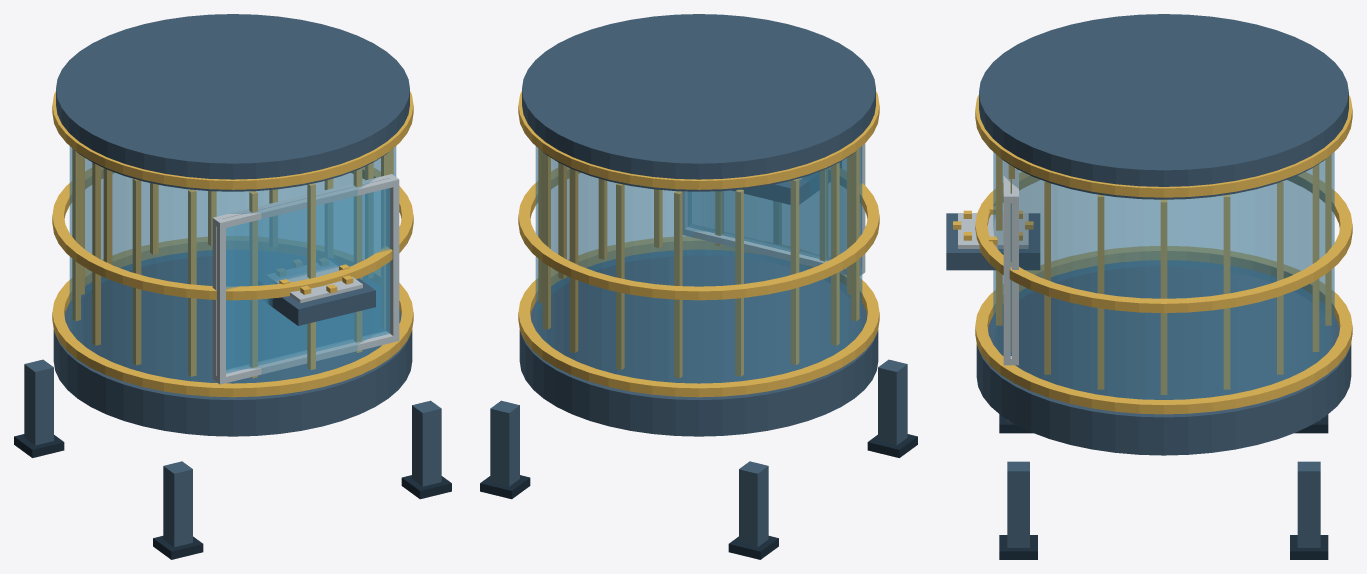
File: 41_L78_UVThermalCureReactor.fbx
The picture shows the model from 3 angles, left to right: view 1: azimuth 30°, elevation 25°; view 2: azimuth 150°, elevation 25°; view 3: azimuth 270°, elevation 25°; orthographic projection. The views are drawn at different scales.
Parts seen in each view (by area): view 1: UVThermalCureReactor, UVThermalCureReactor_Part_0046, UVThermalCureReactor_Part_0047; view 2: UVThermalCureReactor, UVThermalCureReactor_Part_0046; view 3: UVThermalCureReactor, UVThermalCureReactor_Part_0046, UVThermalCureReactor_Part_0047.
Boxes of the visible parts, x1,y1,x2,y2 form: UVThermalCureReactor: (14, 14, 451, 559); UVThermalCureReactor_Part_0046: (258, 258, 375, 325); UVThermalCureReactor_Part_0047: (267, 260, 362, 303); UVThermalCureReactor: (480, 14, 917, 559); UVThermalCureReactor_Part_0046: (731, 162, 841, 204); UVThermalCureReactor: (975, 14, 1352, 559); UVThermalCureReactor_Part_0046: (946, 213, 1040, 270); UVThermalCureReactor_Part_0047: (958, 213, 1028, 248).
Size of the model in its own units: 314 by 364 by 338.
